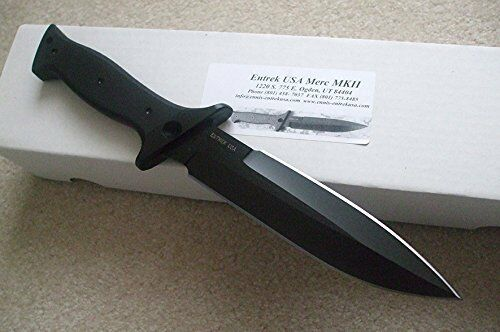knief: (40, 27, 466, 309)
